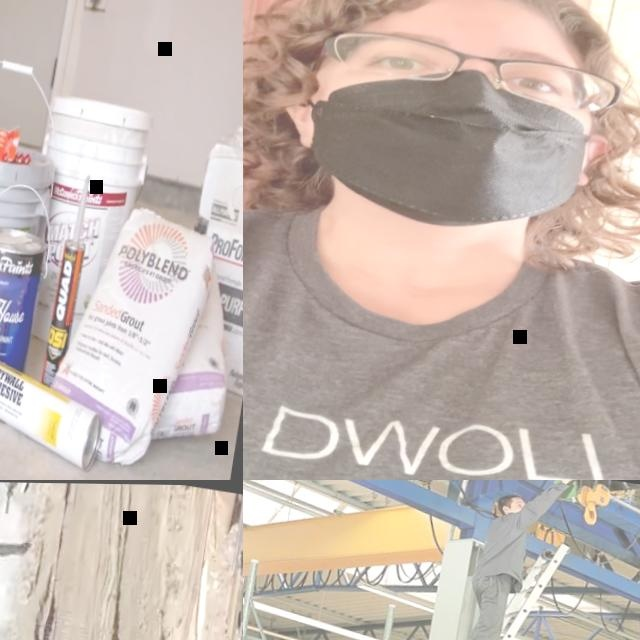Mask: (294, 48, 606, 245)
NO-Hardhat: (275, 0, 615, 54), (496, 491, 523, 511)
NO-Safety Vest: (243, 195, 640, 480), (475, 507, 531, 583)
Person: (243, 0, 640, 480), (453, 480, 578, 640)
